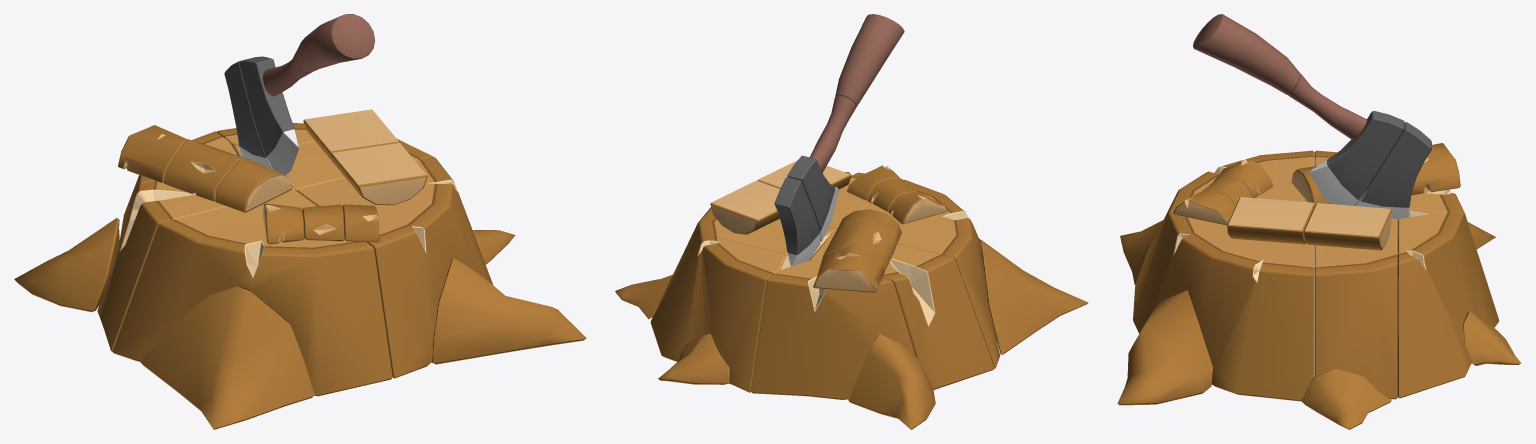
File: Level_P_38.fbx
3 renders of one model, left to right at view 1: azimuth 30°, elevation 25°; view 2: azimuth 150°, elevation 25°; view 3: azimuth 270°, elevation 25°, orthographic. The views are drawn at different scales.
Parts seen in each view (by area): view 1: Trunks_5, Trunks_2, Trunks_18, Trunks_22, Trunks_3, Trunks_1, Trunks_17, Trunks_11, Trunks_12, Trunks_6, Trunks_20, Trunks_9 (+10 smaller); view 2: Trunks_8, Trunks_16, Trunks_3, Trunks_2, Trunks_5, Trunks_1, Trunks_12, Trunks_13, Trunks_4, Trunks_20, Trunks_19, Trunks_21 (+10 smaller); view 3: Trunks_18, Trunks_16, Trunks_21, Trunks_22, Trunks_11, Trunks_12, Trunks_20, Trunks_13, Trunks_5, Trunks_17, Trunks_23, Trunks_19 (+8 smaller).
Boxes of the visible parts, box(x1,y1,x2,y2) form: Trunks_5: box(112, 190, 392, 396); Trunks_2: box(140, 286, 314, 429); Trunks_18: box(297, 156, 492, 378); Trunks_22: box(431, 258, 586, 364); Trunks_3: box(97, 180, 294, 352); Trunks_1: box(14, 218, 119, 312); Trunks_17: box(331, 143, 427, 205); Trunks_11: box(239, 56, 298, 175); Trunks_12: box(295, 14, 374, 72); Trunks_6: box(163, 139, 251, 201); Trunks_20: box(303, 109, 399, 163); Trunks_9: box(215, 160, 291, 212); Trunks_8: box(751, 260, 915, 399); Trunks_16: box(650, 234, 790, 392); Trunks_3: box(808, 229, 994, 389); Trunks_2: box(979, 239, 1088, 354); Trunks_5: box(837, 179, 1000, 368); Trunks_1: box(848, 334, 935, 429); Trunks_12: box(835, 14, 904, 107); Trunks_13: box(774, 177, 820, 266); Trunks_4: box(813, 241, 884, 292); Trunks_20: box(710, 180, 779, 234); Trunks_19: box(658, 334, 730, 384); Trunks_21: box(651, 207, 834, 320); Trunks_18: box(1133, 212, 1314, 401); Trunks_16: box(1398, 212, 1499, 398); Trunks_21: box(1314, 218, 1397, 399); Trunks_22: box(1117, 290, 1213, 405); Trunks_11: box(1309, 111, 1404, 205); Trunks_12: box(1193, 14, 1300, 94); Trunks_20: box(1303, 203, 1392, 250); Trunks_13: box(1355, 122, 1431, 220); Trunks_5: box(1133, 150, 1314, 320); Trunks_17: box(1227, 197, 1315, 244); Trunks_23: box(1301, 368, 1391, 429); Trunks_19: box(1463, 311, 1520, 365).
Size of the model in its own units: 591 by 443 by 523.
